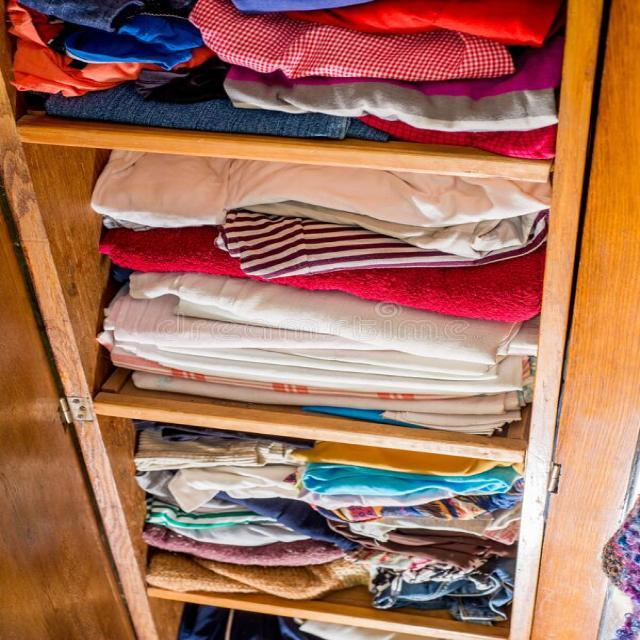clothes: (53, 24, 516, 611)
